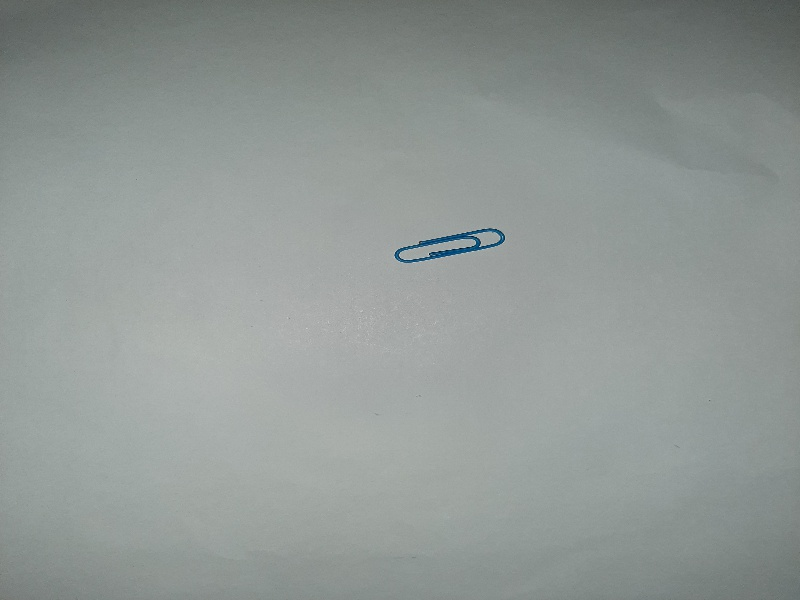Small Jumpclip: (385, 223, 517, 261)
